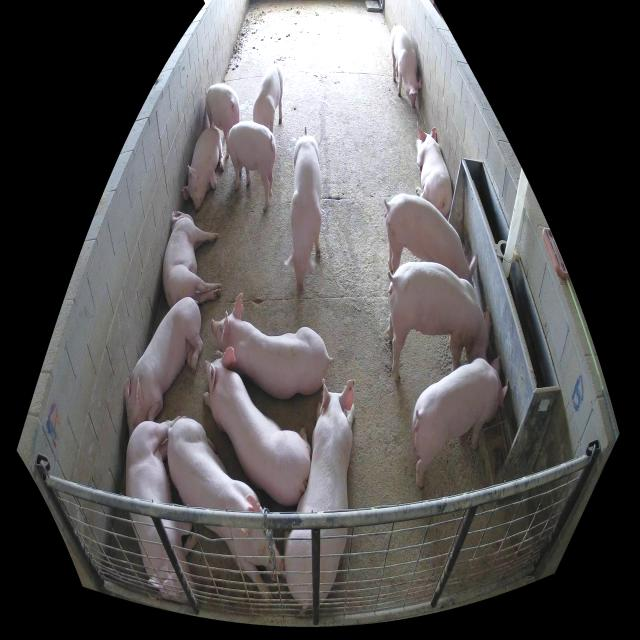pig: (169, 416, 285, 606), (282, 377, 356, 609), (202, 350, 311, 505), (126, 415, 204, 605), (387, 262, 491, 386), (412, 358, 508, 489), (211, 292, 330, 396), (125, 299, 203, 438), (385, 194, 478, 289), (284, 135, 322, 294), (162, 211, 222, 307), (226, 121, 276, 212), (415, 124, 453, 220), (182, 127, 224, 212), (390, 26, 421, 108), (253, 63, 283, 134), (206, 83, 239, 138)
